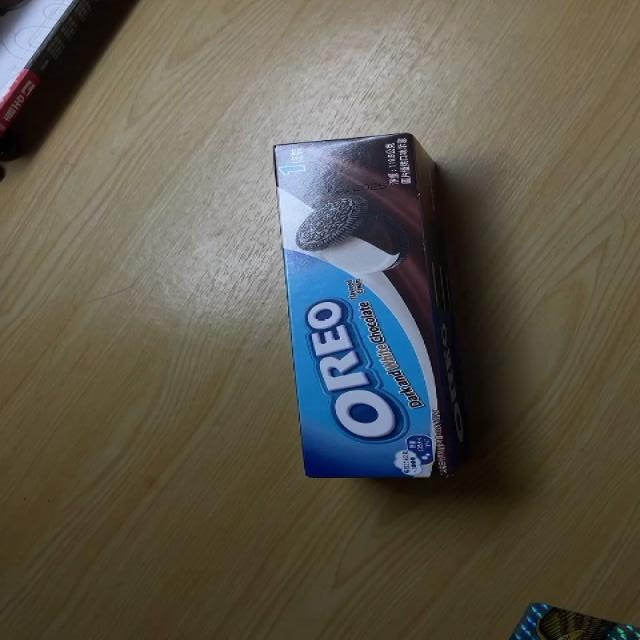Oreo: (272, 133, 478, 483)
